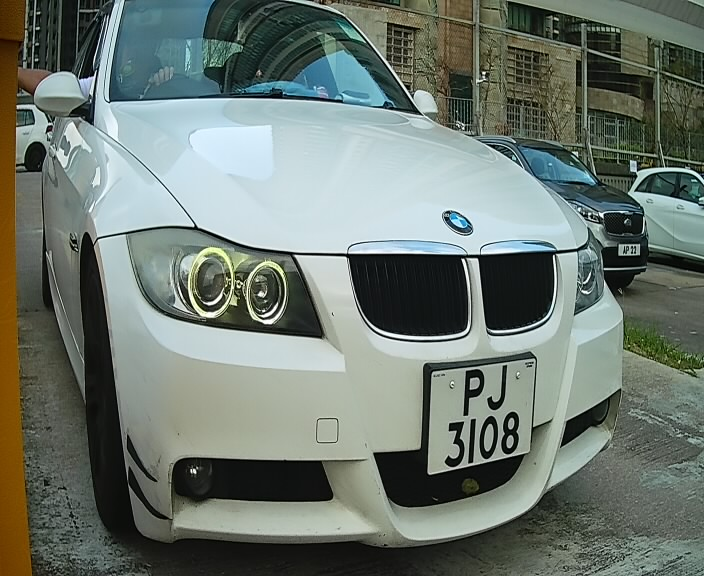Car: (2, 2, 636, 563)
License Plate: (415, 347, 542, 486)
